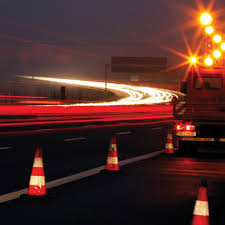cones: (20, 146, 53, 198), (184, 186, 217, 225), (101, 133, 126, 177), (162, 125, 177, 159)
